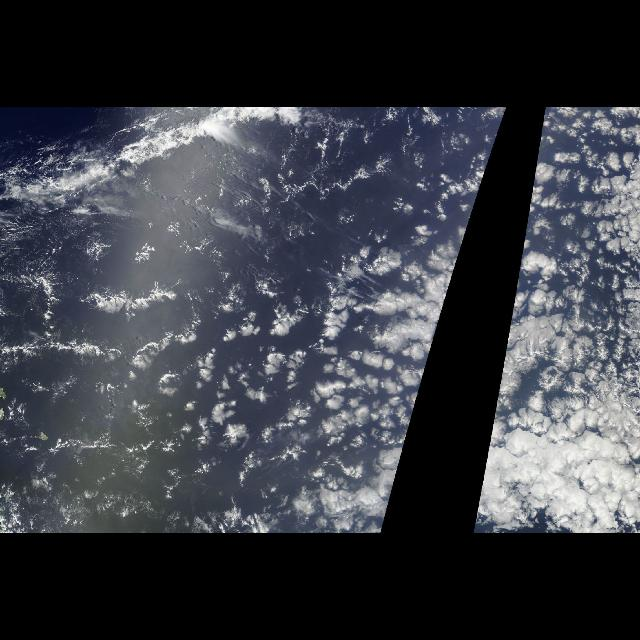Flower: (9, 119, 504, 531), (474, 119, 638, 531)
